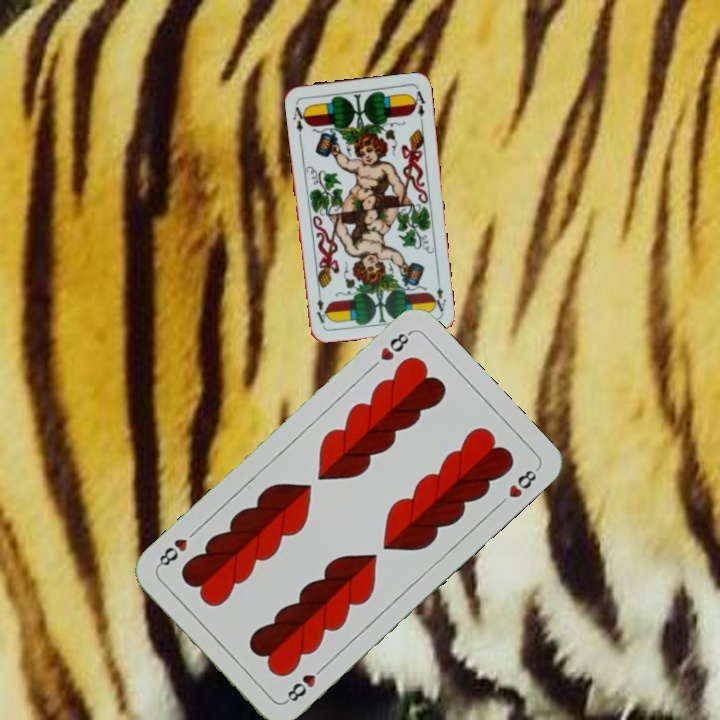EA: (429, 274, 449, 314), (289, 99, 310, 135)
H8: (281, 661, 328, 706), (376, 327, 414, 363)
